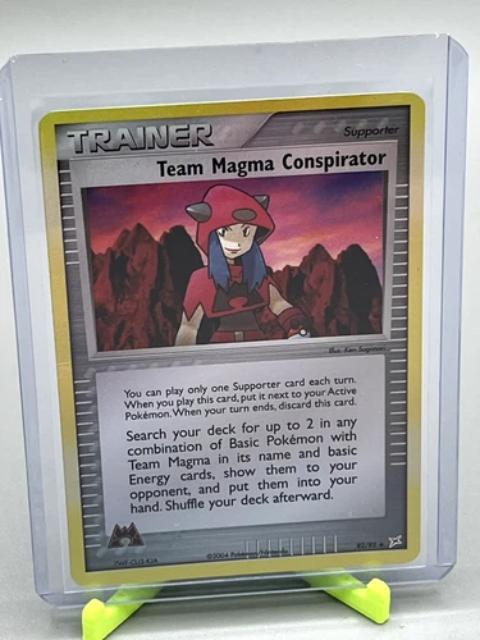Card: (31, 87, 429, 591)
Name: (150, 145, 394, 184)
